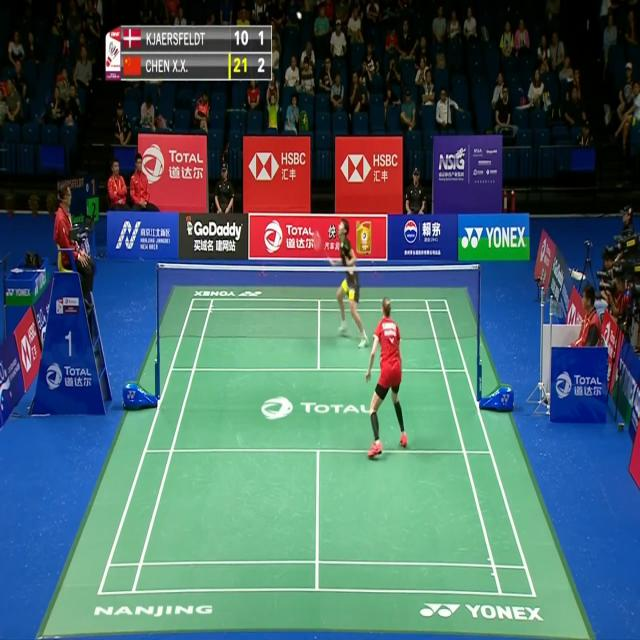Player1: (364, 295, 412, 463)
Player2: (311, 212, 371, 350)
